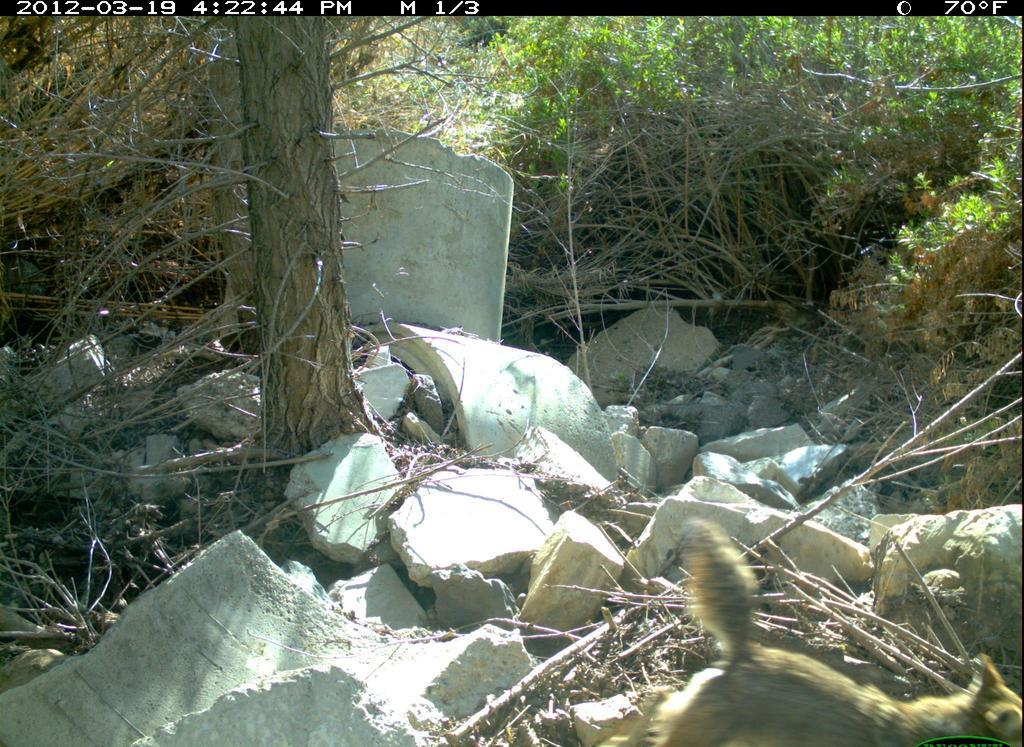coyote: (638, 514, 1023, 743)
